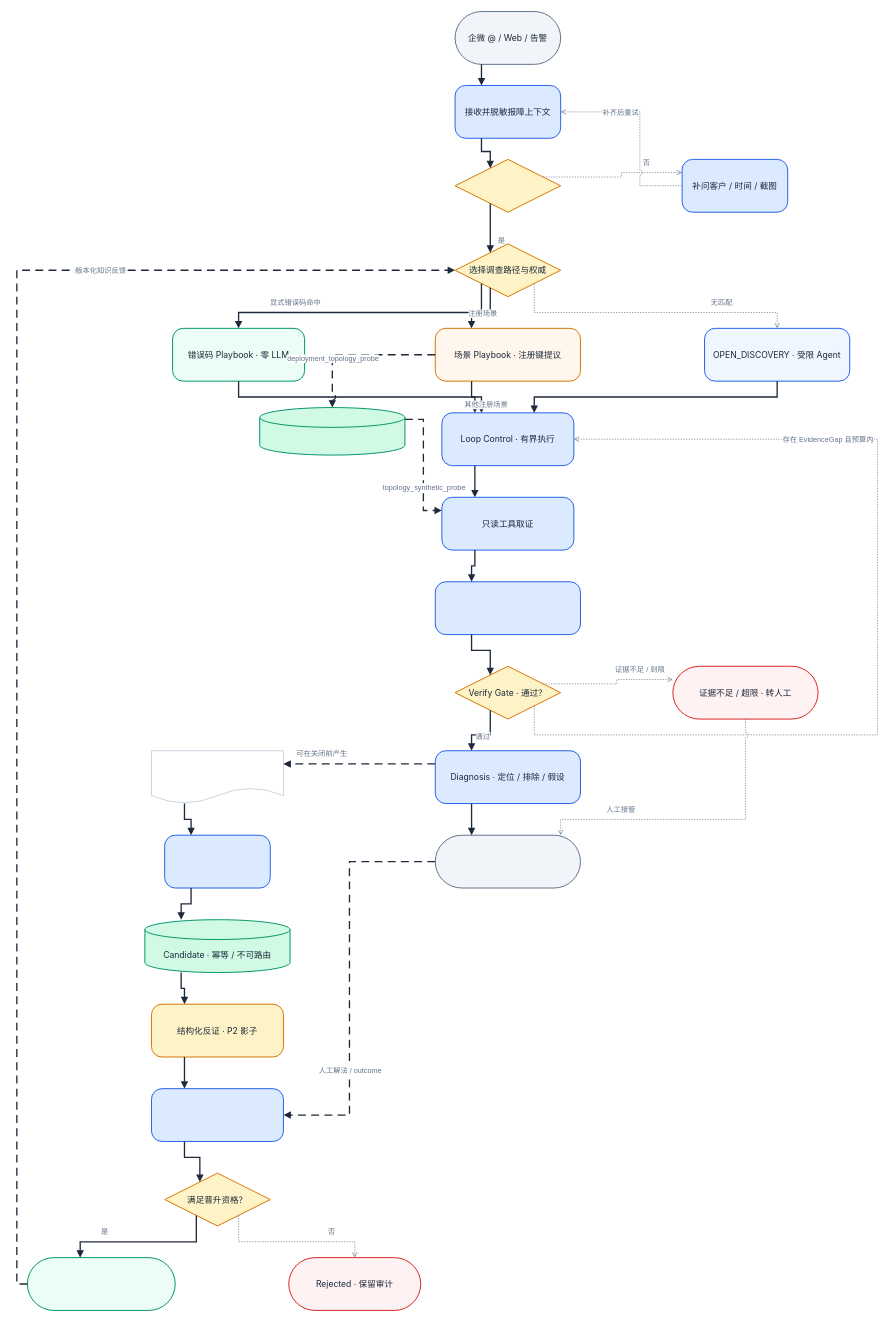
This 894x1323 diagram has some shape labels left out. Each missing label, with the centre of its shape:
"Approved Playbook · 新版本" goes at point 101,1284.
"Workspace 拓扑资产" goes at point 332,431.
"人工处置 / outcome / 关闭" goes at point 507,861.
"候选结论 · 规则 / 受限 Agent" goes at point 507,608.
"关键字段完整？" goes at point 507,185.
"生成 PlaybookDraft" goes at point 217,777.
"确定性回放 + 专家审核" goes at point 217,1115.
"确定性校验" goes at point 217,861.
